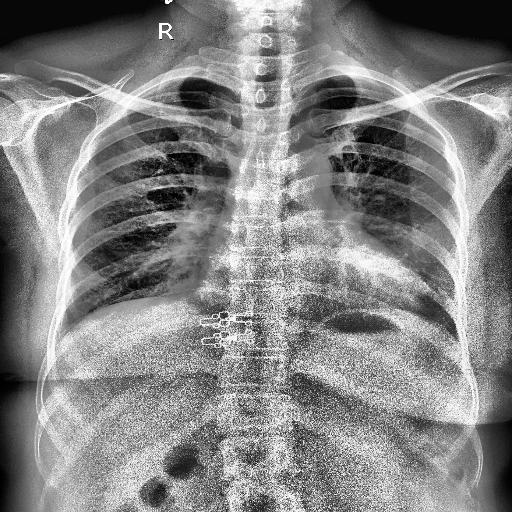0- Aortic enlargement: (270, 148, 334, 196)
3- Cardiomegaly: (191, 255, 431, 320), (188, 252, 430, 316), (192, 264, 431, 304)
